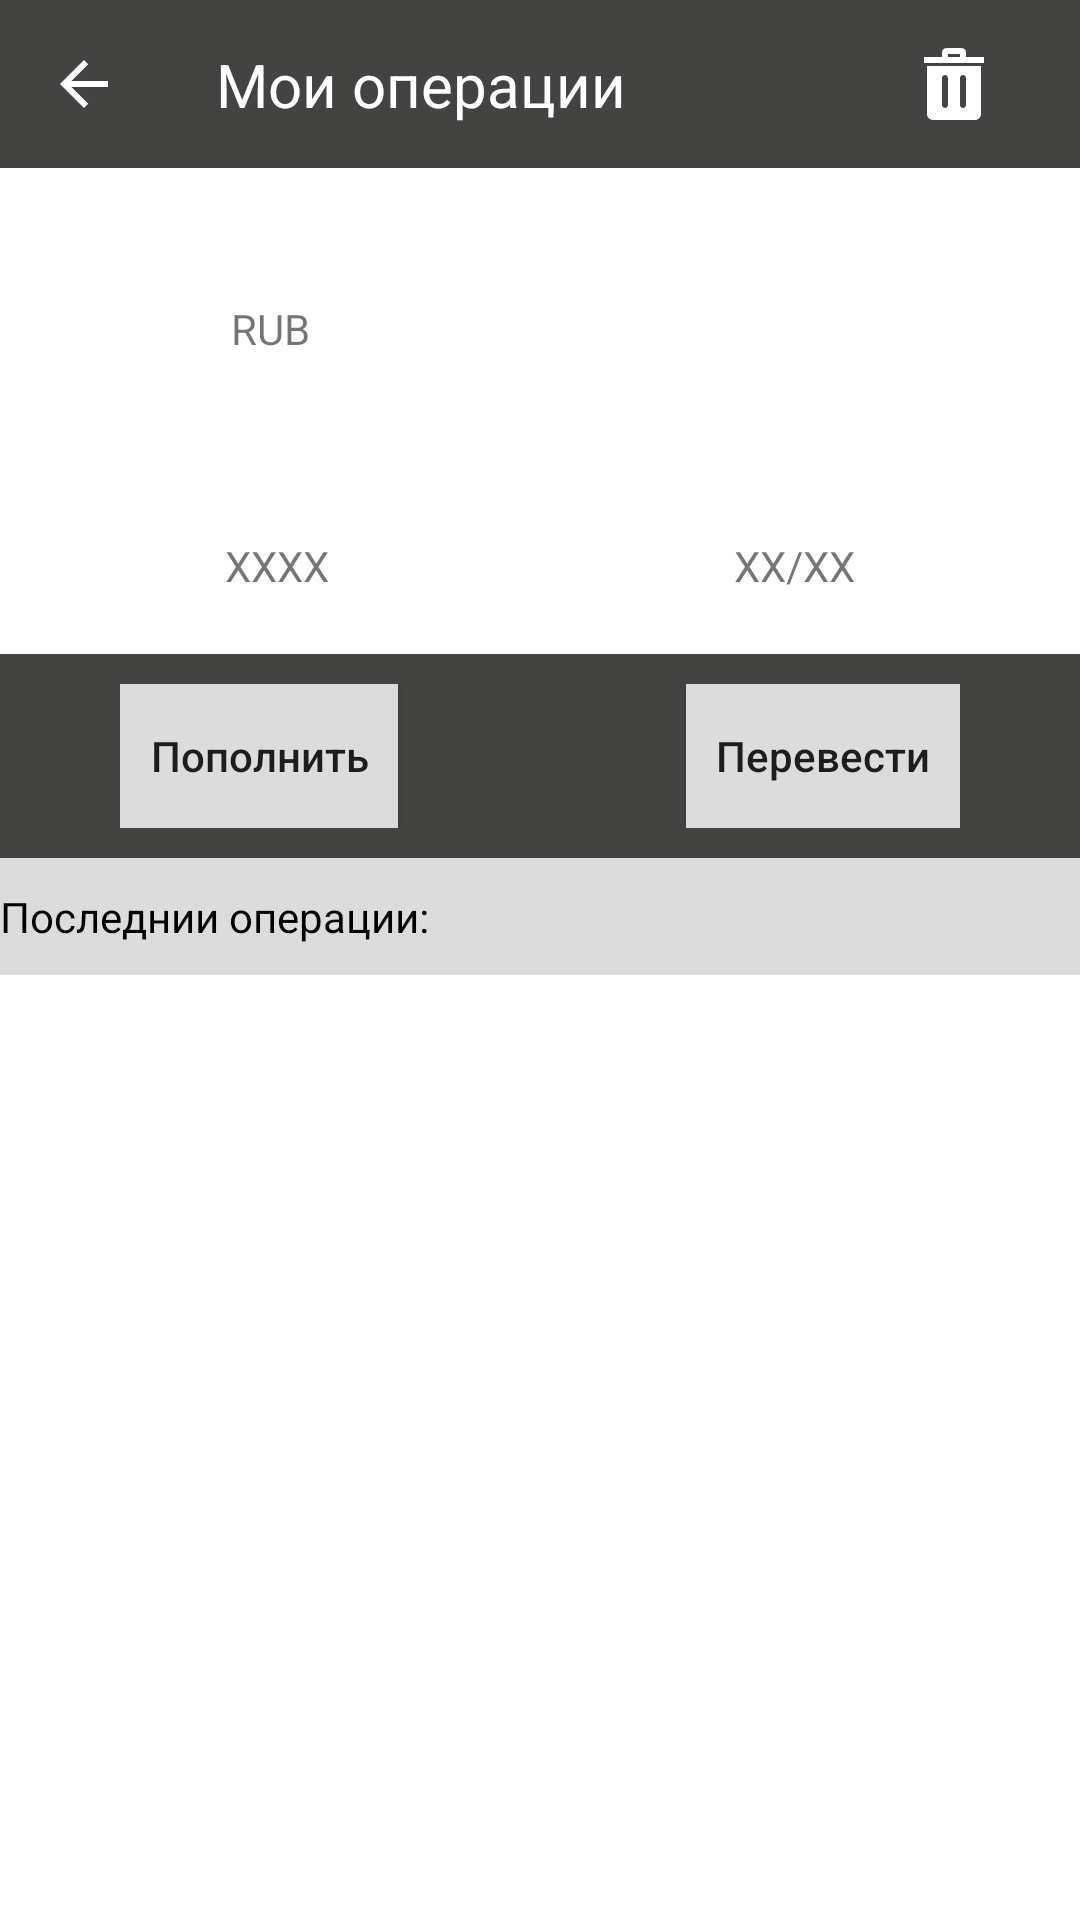

Named icons in this screenshot (1080*1920) and their bounding boxes, Rect(x1, y1, x2, y2):
trash: Rect(924, 48, 984, 120)
